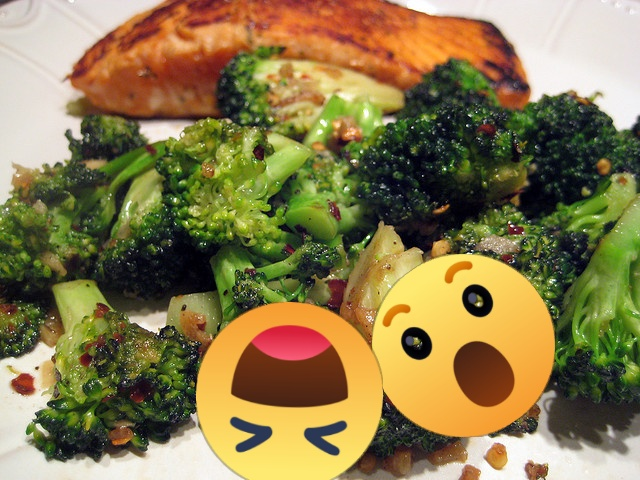haha: (196, 302, 383, 480)
wow: (372, 254, 555, 437)
